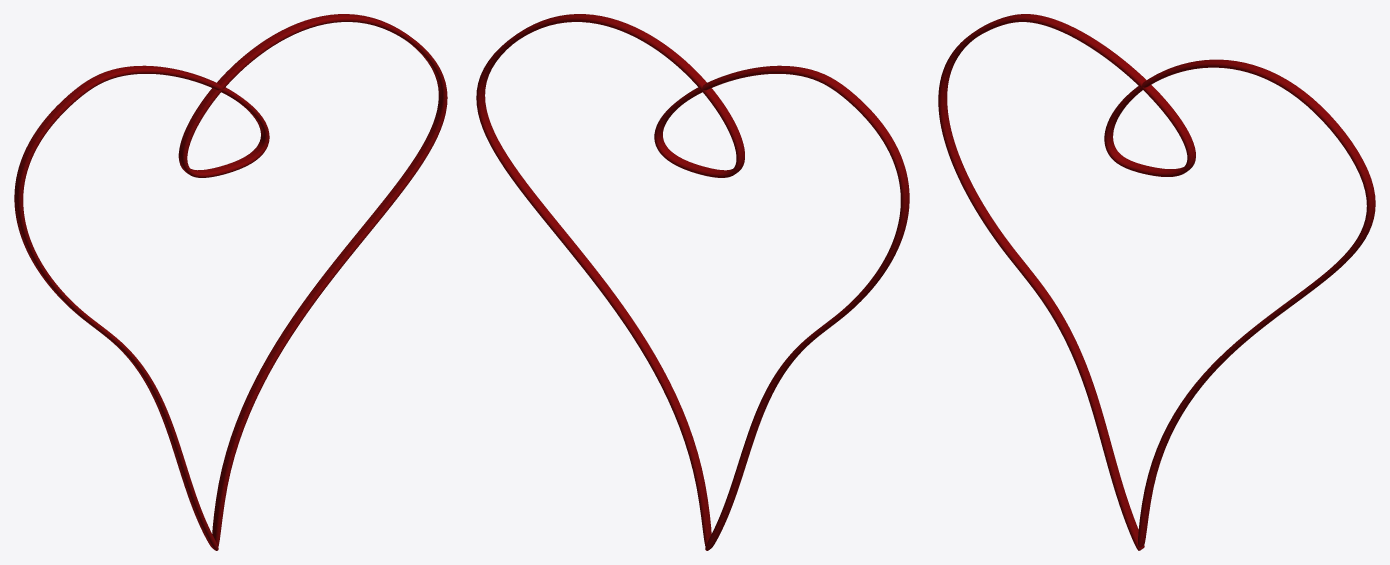
Rendered from heart.fbx.
3 renders of one model, left to right at view 1: azimuth 30°, elevation 25°; view 2: azimuth 150°, elevation 25°; view 3: azimuth 330°, elevation 25°, orthographic.
Visible parts, largest first — view 1: BézierCurve; view 2: BézierCurve; view 3: BézierCurve.
Part boxes in pixels (<box>): BézierCurve: <box>14,14,447,550</box>; BézierCurve: <box>476,14,909,550</box>; BézierCurve: <box>938,14,1375,550</box>.
Size of the model in its own units: 166 by 186 by 4.12.
